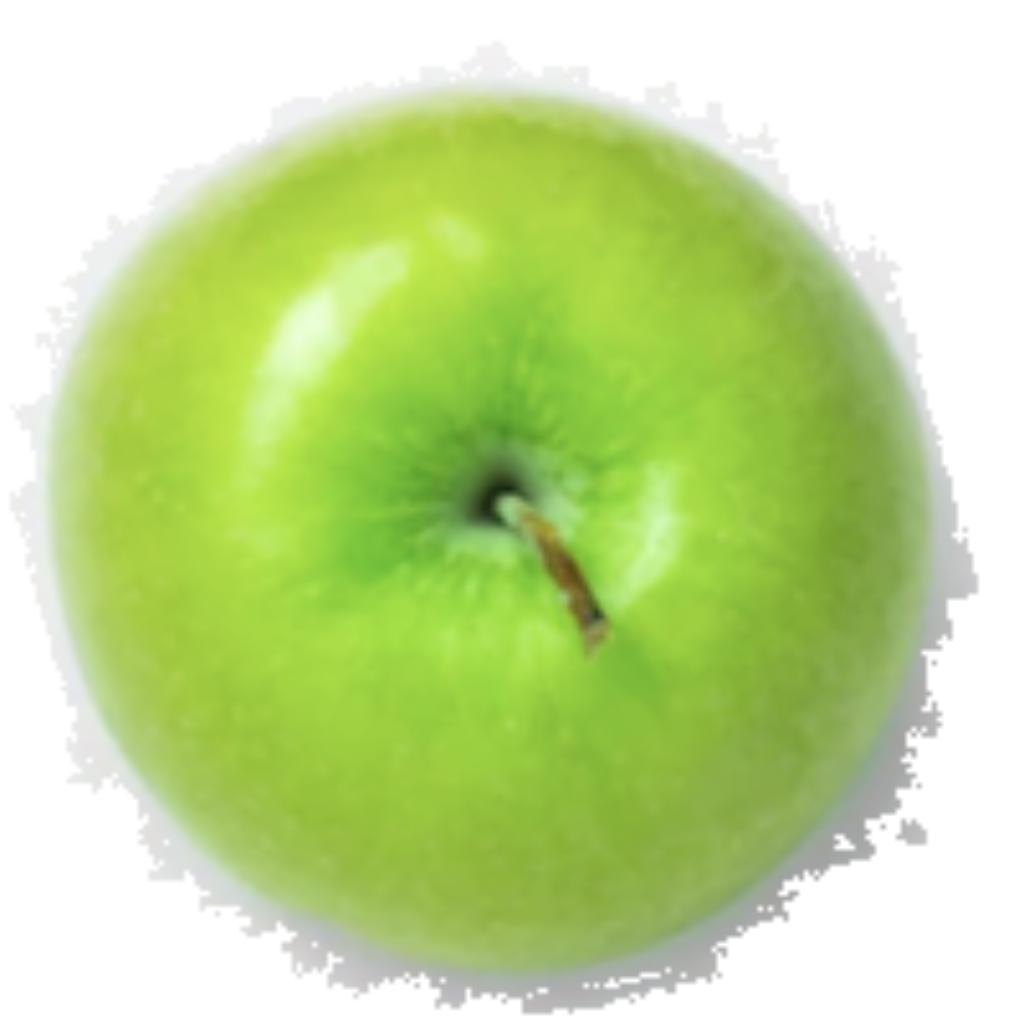apple: (5, 36, 978, 1014)
